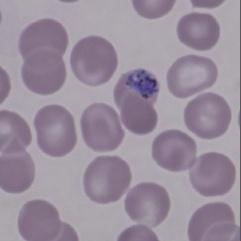Infected: (113, 69, 160, 110)
Uninfected: (70, 36, 118, 86), (33, 105, 78, 157), (82, 156, 130, 204), (18, 17, 69, 62), (22, 48, 67, 97), (167, 54, 217, 98), (184, 93, 230, 139), (124, 181, 170, 227), (80, 104, 123, 153), (0, 136, 35, 194), (190, 152, 235, 196), (187, 201, 235, 241), (151, 129, 196, 171), (18, 199, 60, 241), (178, 13, 220, 52), (122, 93, 159, 135), (0, 110, 31, 153)
